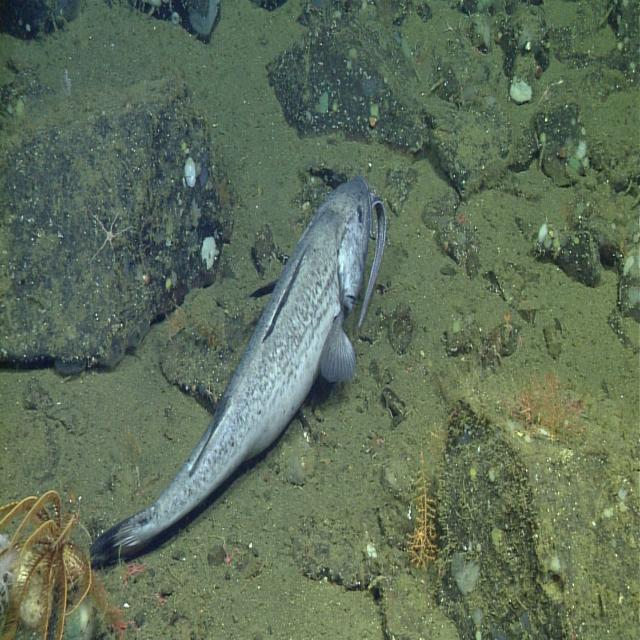Brittle Star: (86, 204, 134, 272), (219, 535, 242, 574)
Not Brittle Star: (88, 163, 391, 569), (0, 469, 96, 639), (501, 367, 591, 447), (200, 234, 220, 271), (183, 154, 198, 191)
